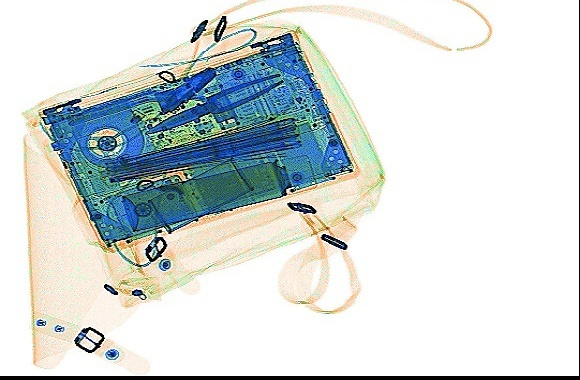knife: (160, 65, 218, 116)
pressure: (119, 153, 317, 232)
scissors: (142, 53, 296, 138)
zippooil: (145, 156, 253, 234)
